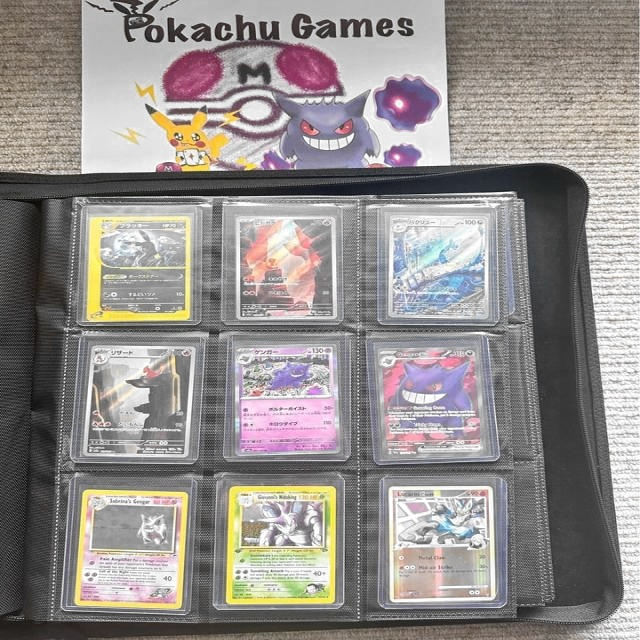card: (73, 489, 190, 611), (226, 486, 338, 608), (389, 484, 499, 603), (376, 346, 490, 460), (81, 346, 197, 458), (234, 344, 343, 458), (87, 214, 193, 327), (236, 216, 342, 322), (387, 214, 492, 320)
